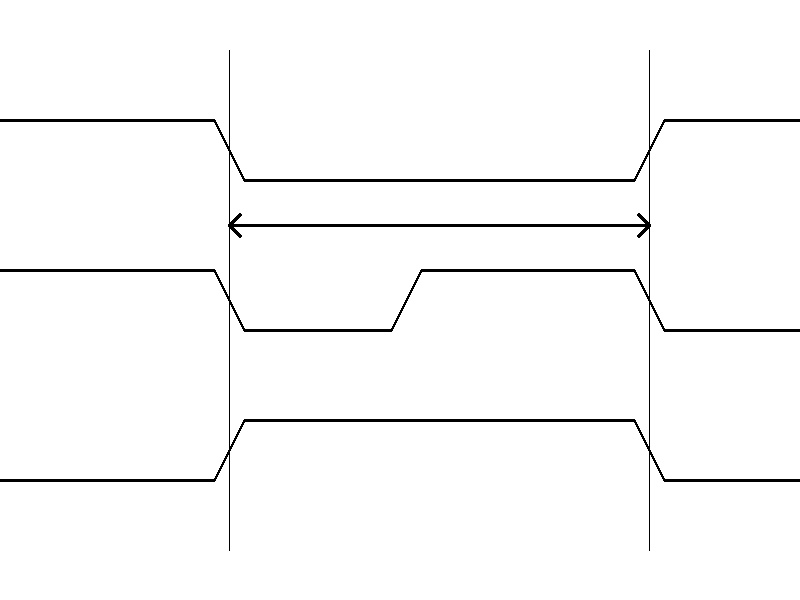double_arrow: (229, 210, 649, 240)
